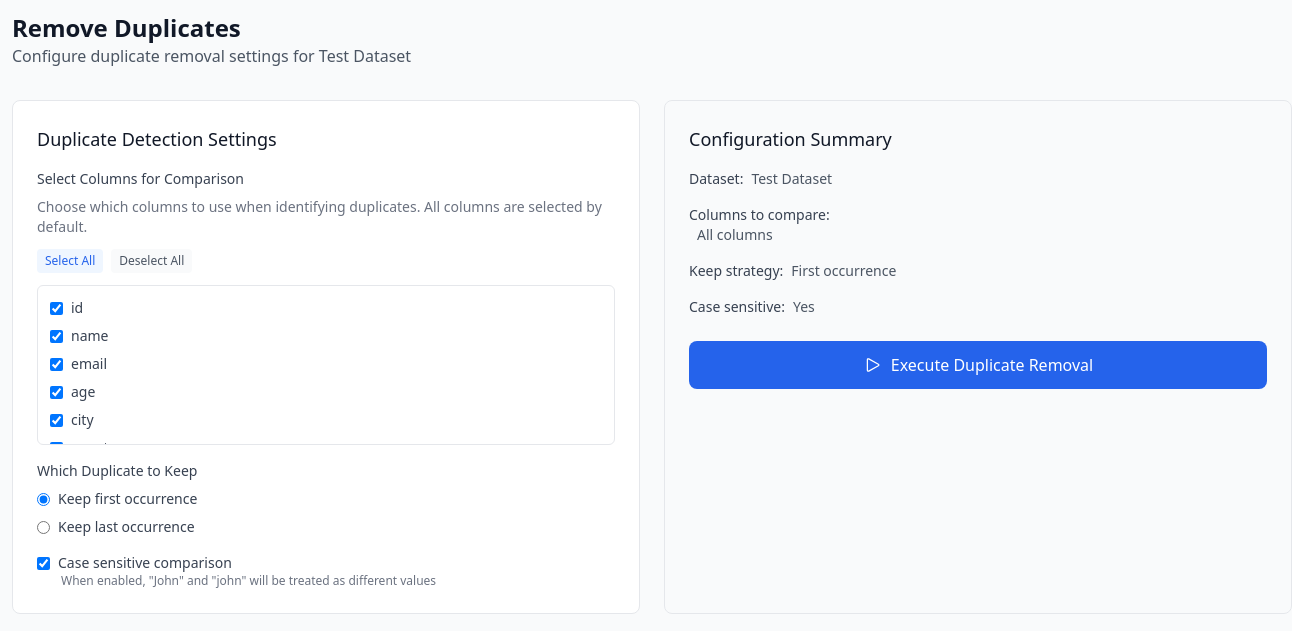
Test: RemoveDuplicates › Select All button selects all columns
The width and height of the screenshot is (1292, 631).
// First deselect a column
Click the checkbox labelled "email" at {"x": 56, "y": 364}, box [50,358,63,370]
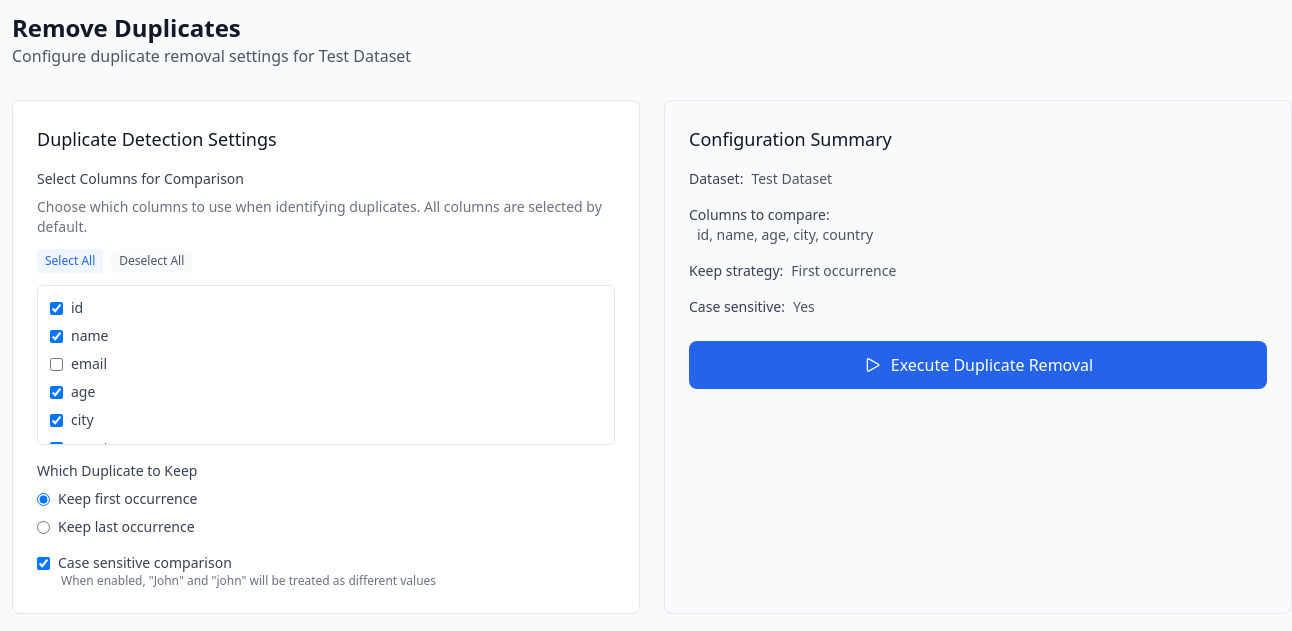
expect the checkbox labelled "email" is not checked: met, box [50,358,63,370]
// Click Select All
Click the button "Select All" at {"x": 70, "y": 261}, box [37,249,103,273]
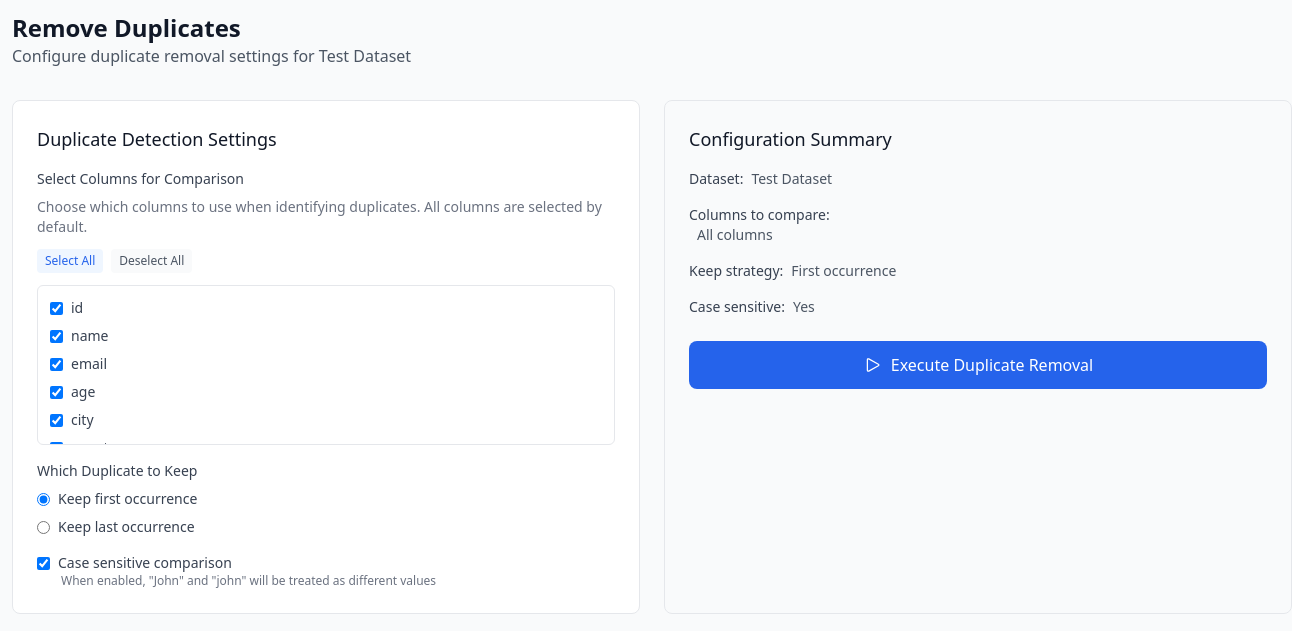
expect the checkbox labelled "email" is checked: met, box [50,358,63,370]
expect the text "All columns" is shown: met, box [697,225,773,244]
